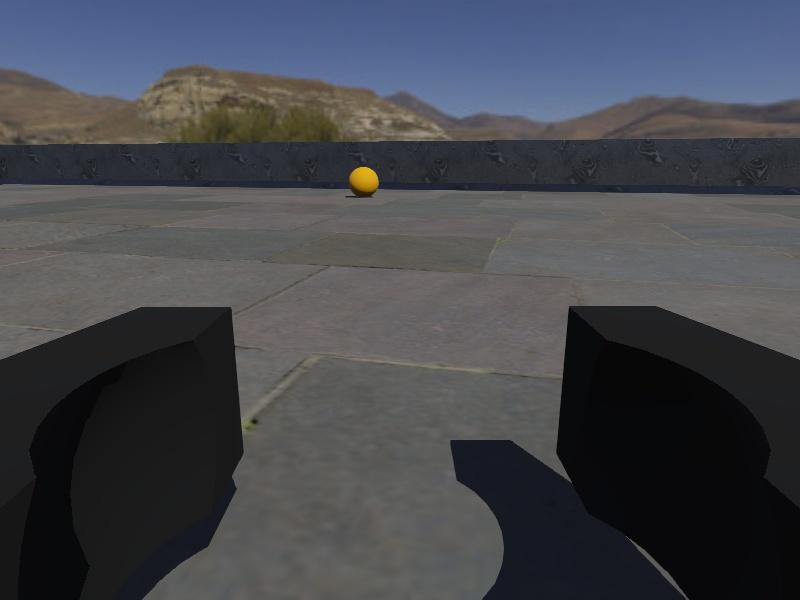orange ball: (348, 165, 380, 198)
